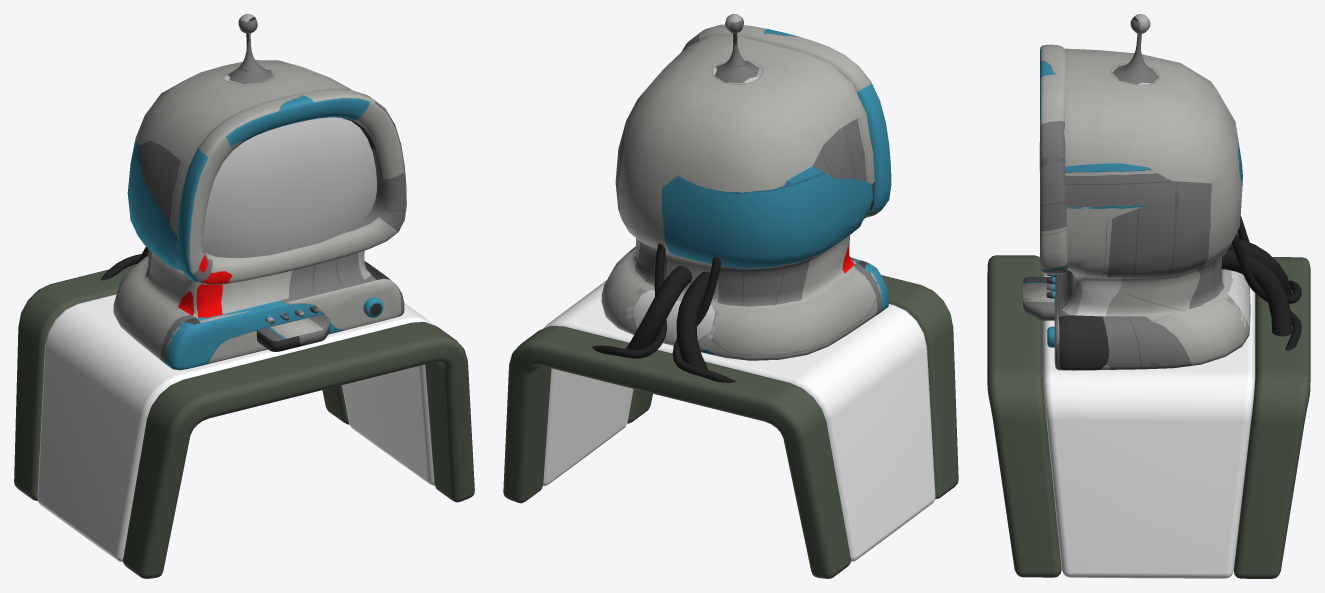
File: Console.fbx
The picture shows the model from 3 angles, left to right: view 1: azimuth 30°, elevation 25°; view 2: azimuth 150°, elevation 25°; view 3: azimuth 270°, elevation 25°; orthographic projection.
Parts seen in each view (by area): view 1: Console; view 2: Console; view 3: Console.
Part boxes in pixels (x1,y1,x2,y2): Console: [14, 14, 474, 578]; Console: [503, 14, 958, 578]; Console: [987, 14, 1310, 578].
Bounding box in the file's own units: 96.4 × 133 × 80.06.
